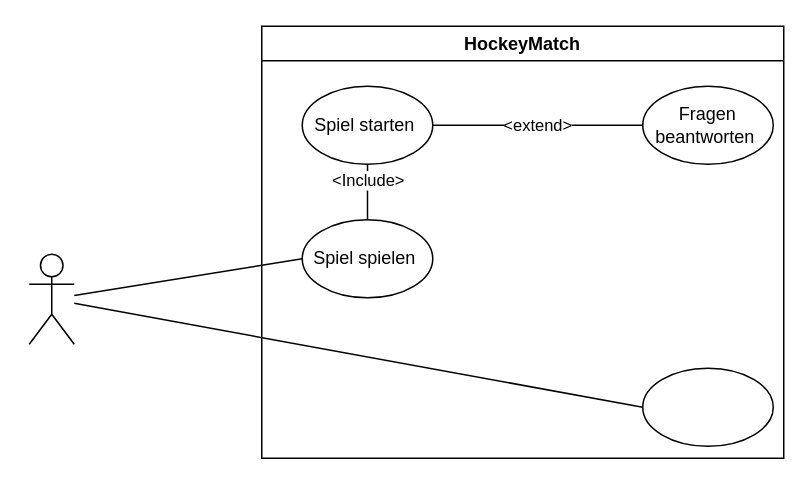
Image size: 810x485. Some labels were removed from this diagram. Each missing label, with the centre of its shape:
Player: point (51, 298)
Spiel beenden: point (707, 406)
